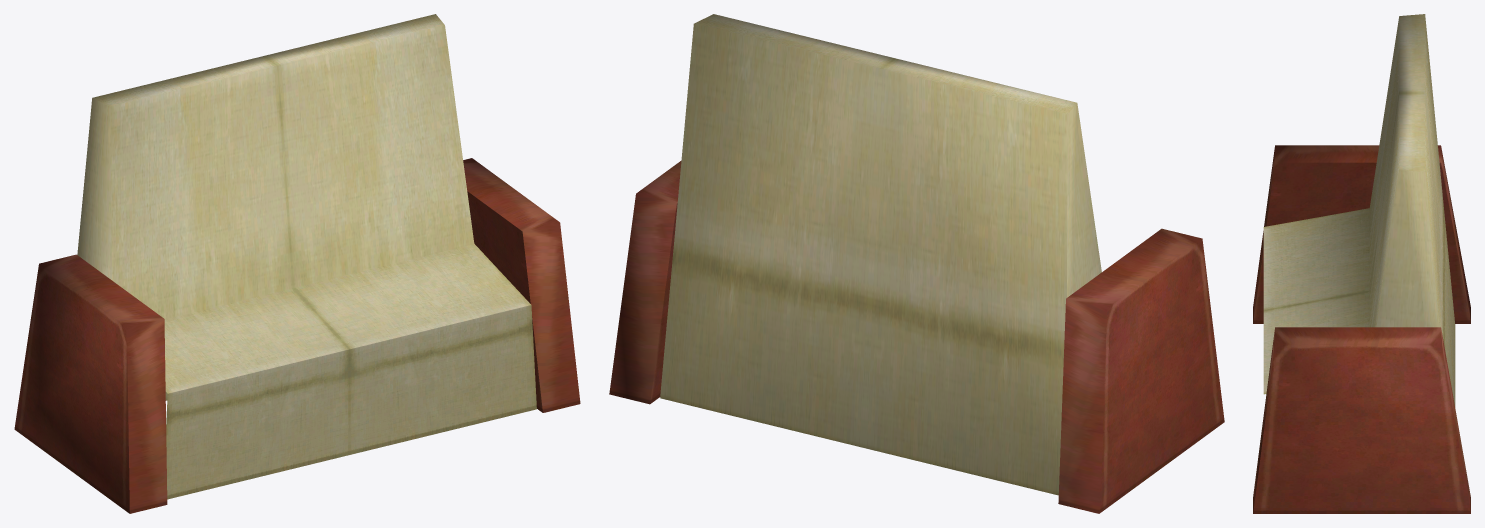
Rendered from frn_all_couch_love_seat_s1_l2.fbx.
The picture shows the model from 3 angles, left to right: view 1: azimuth 30°, elevation 25°; view 2: azimuth 150°, elevation 25°; view 3: azimuth 270°, elevation 25°; orthographic projection. The views are drawn at different scales.
Parts seen in each view (by area): view 1: mesh_node; view 2: mesh_node; view 3: mesh_node.
Boxes of the visible parts, left/top/right/bottom form: mesh_node: left=14, top=14, right=580, bottom=513; mesh_node: left=609, top=14, right=1224, bottom=513; mesh_node: left=1253, top=14, right=1470, bottom=513.
Size of the model in its own units: 1.67 by 1.19 by 0.741.
